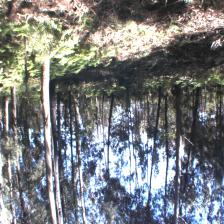trunktrack_idkeyframe: (41, 62, 53, 192)
